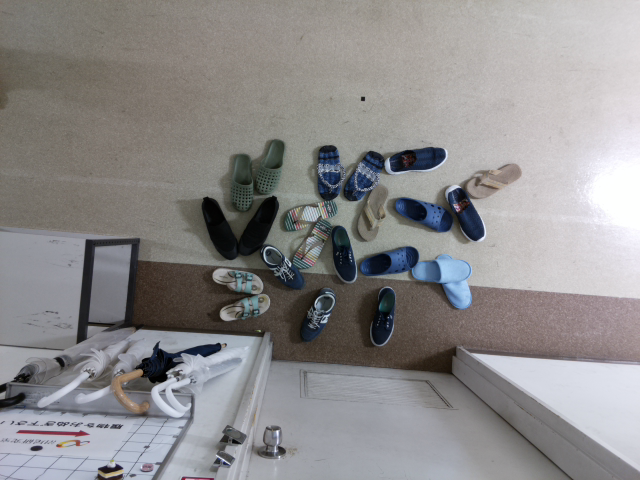Copy of Copy of Copy of Copy of Copy of Copy of Copy of Copy of Copy of Copy of: (437, 180, 491, 250), (430, 246, 481, 316), (402, 250, 481, 292), (254, 236, 313, 292), (459, 156, 526, 204), (390, 189, 456, 236), (323, 217, 365, 288), (363, 283, 405, 354), (285, 218, 338, 274), (356, 241, 422, 283), (351, 180, 386, 244)
Copy of Copy of Copy of Copy of Copy of Copy of Copy of Copy of Copy of shoe: (277, 195, 348, 231)
Copy of Copy of Copy of Copy of Copy of Copy of Copy of Copy of shoe: (379, 137, 450, 180)
Copy of Copy of Copy of Copy of Copy of Copy of Copy of shoe: (339, 142, 385, 204)
Copy of Copy of Copy of Copy of Copy of Copy of shoe: (308, 137, 345, 199)
Copy of Copy of Copy of Copy of Copy of shoe: (252, 131, 288, 198)
Copy of Copy of Copy of Copy of Copy of umbrella: (1, 318, 141, 411)
Copy of Copy of Copy of Copy of shoe: (234, 190, 285, 258), (225, 145, 257, 213)
Copy of Copy of Copy of Copy of umbrella: (31, 321, 149, 410)
Copy of Copy of Copy of shoe: (197, 190, 242, 260)
Copy of Copy of Copy of umbrella: (70, 320, 158, 411)
Copy of Copy of shoe: (292, 285, 341, 348)
Copy of Copy of umbrella: (103, 335, 232, 417)
Copy of shoe: (212, 287, 279, 324)
Copy of umbrella: (163, 343, 262, 421)
shoe: (203, 262, 270, 298)
umbrella: (143, 335, 259, 423)
